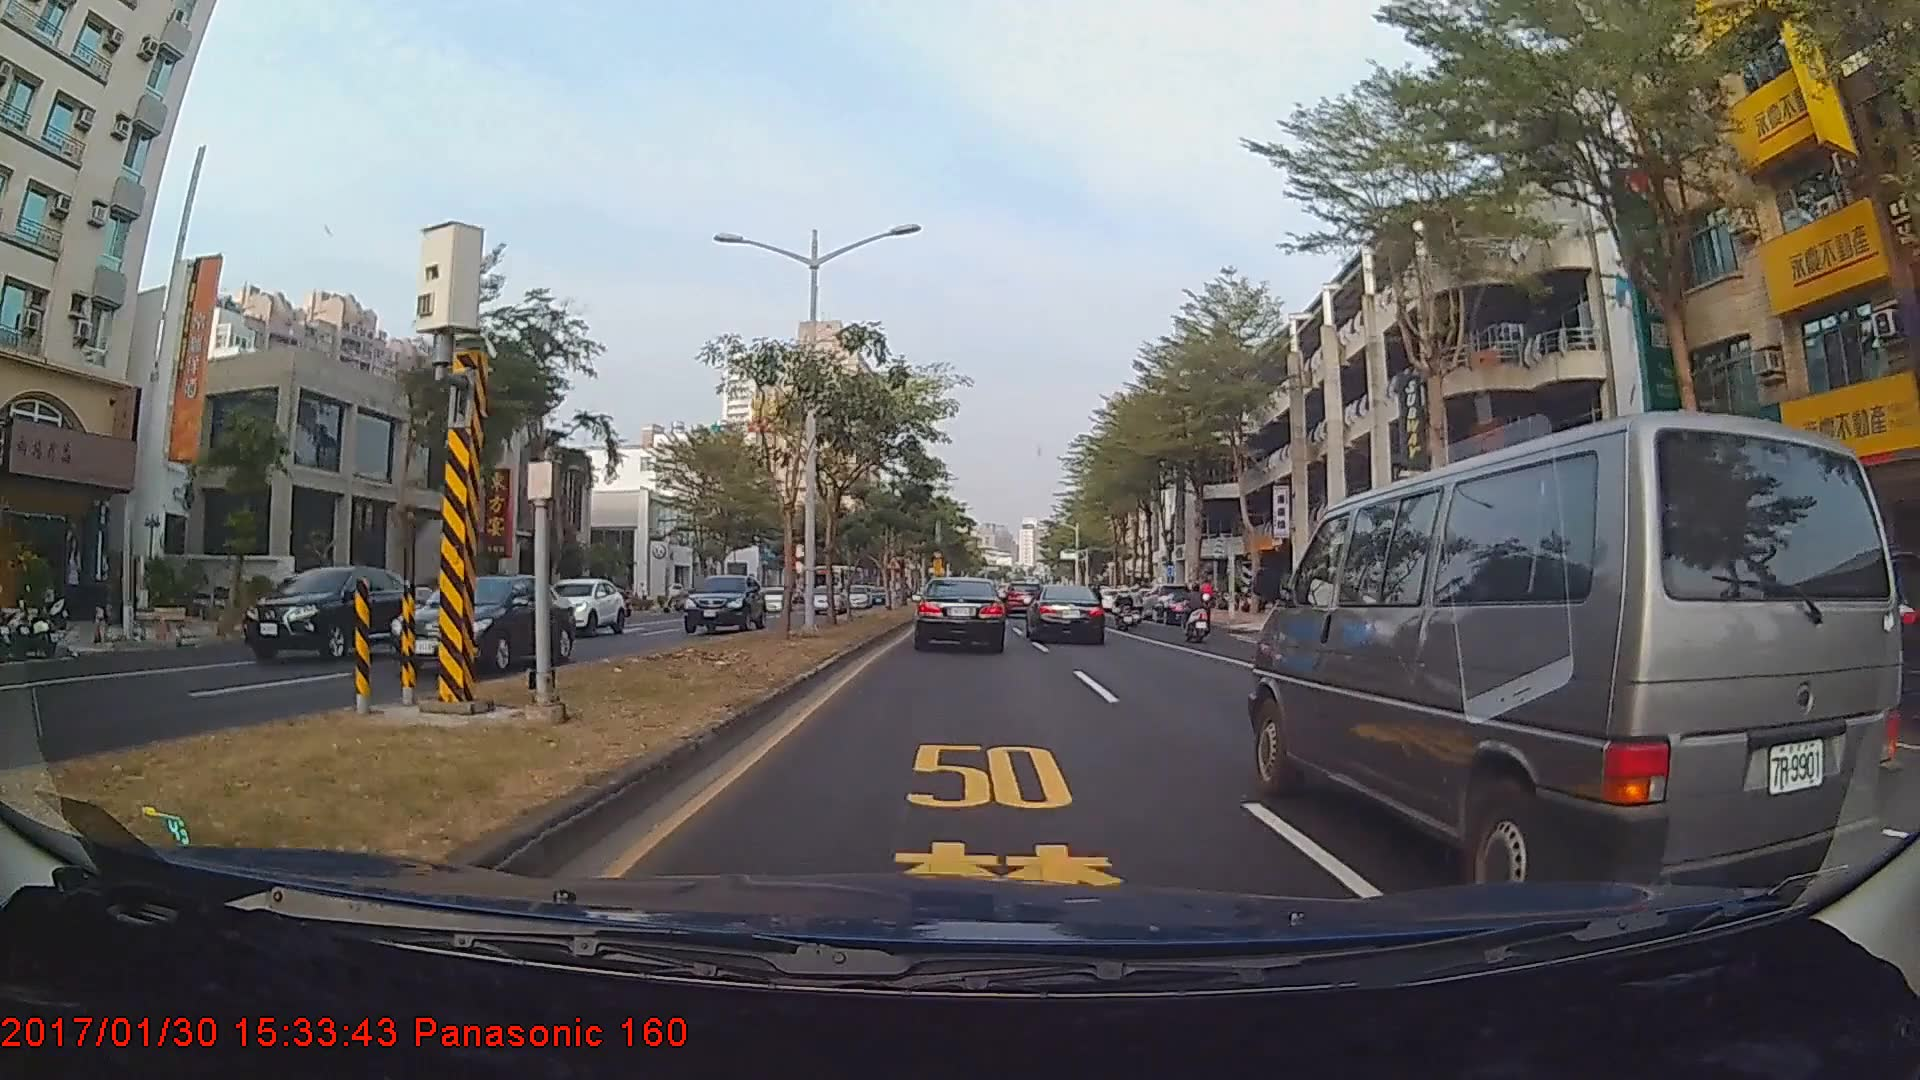rider: (1173, 580, 1217, 644)
vehicle: (1250, 403, 1882, 897), (389, 572, 581, 679), (240, 562, 418, 664), (915, 574, 1005, 651), (533, 578, 627, 638), (683, 574, 767, 634), (1027, 584, 1105, 645), (1146, 593, 1208, 628), (1003, 577, 1042, 612), (808, 585, 848, 615)
